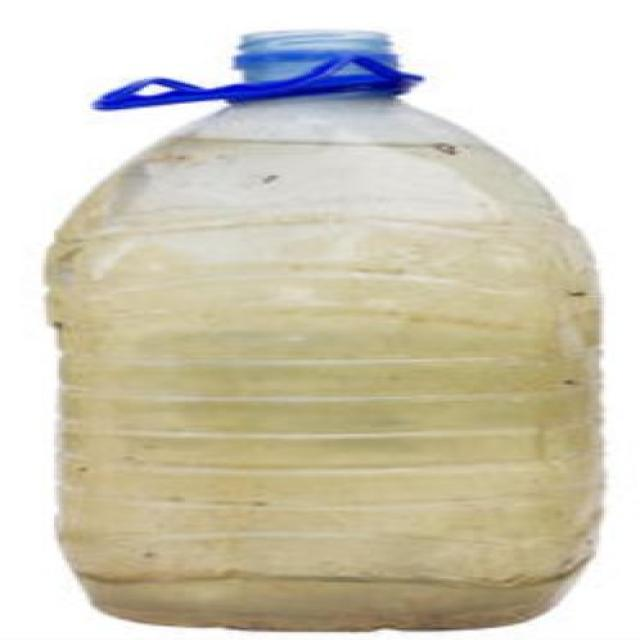general: (41, 26, 607, 631)
